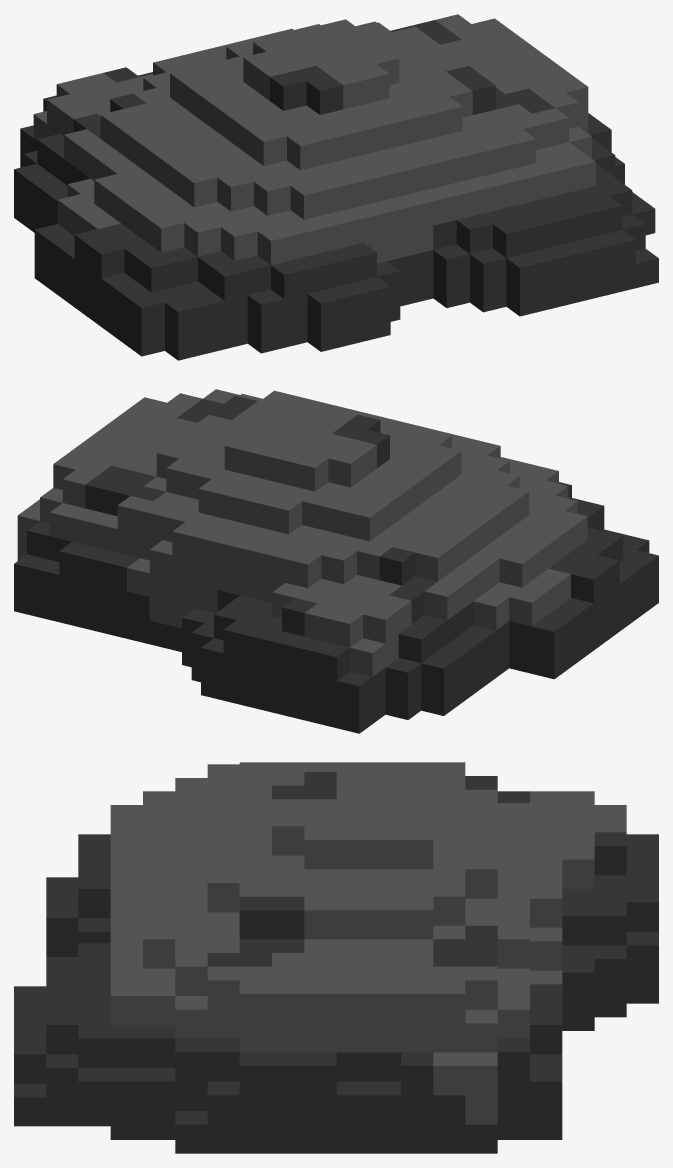
File: nat_rock_small.obj
3 renders of one model, top to bottom at view 1: azimuth 30°, elevation 25°; view 2: azimuth 150°, elevation 25°; view 3: azimuth 270°, elevation 25°, orthographic. The views are drawn at different scales.
Bounding box in the file's own units: 0.95 × 0.3023 × 0.8636.
